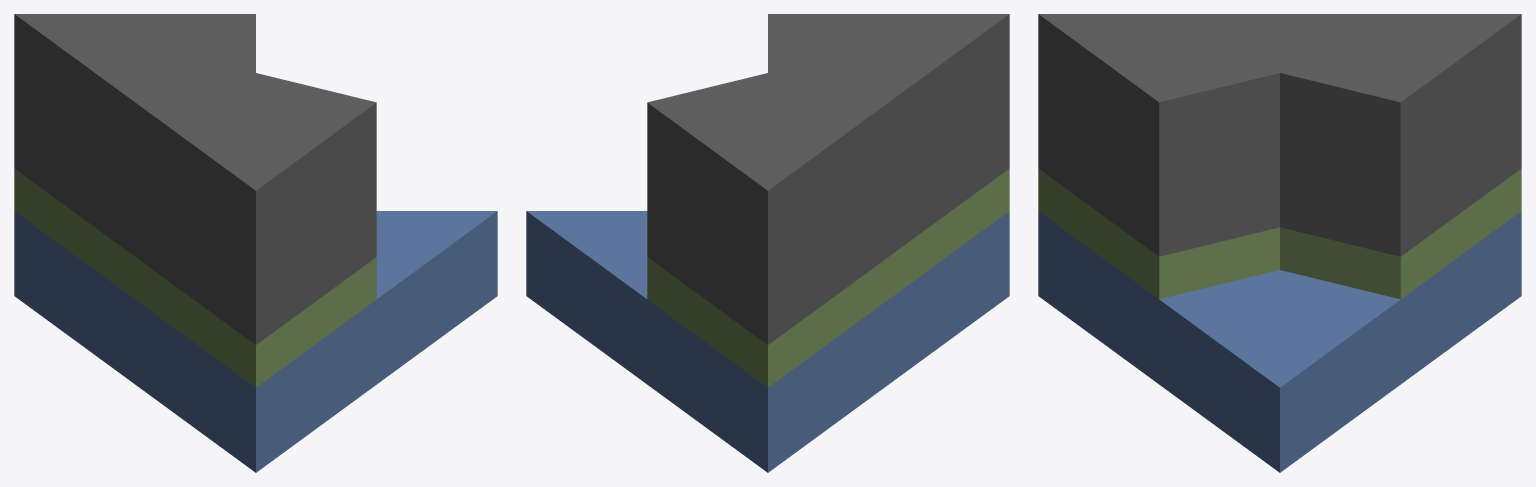
File: tri_22.glb
3 renders of one model, left to right at view 1: azimuth 30°, elevation 25°; view 2: azimuth 150°, elevation 25°; view 3: azimuth 270°, elevation 25°, orthographic.
Parts seen in each view (by area): view 1: tri_22; view 2: tri_22; view 3: tri_22.
Boxes of the visible parts, x1,y1,x2,y2 form: tri_22: [14, 14, 497, 472]; tri_22: [526, 14, 1009, 472]; tri_22: [1038, 14, 1521, 472].
Bounding box in the file's own units: 0.7423 × 0.5521 × 0.8571.
